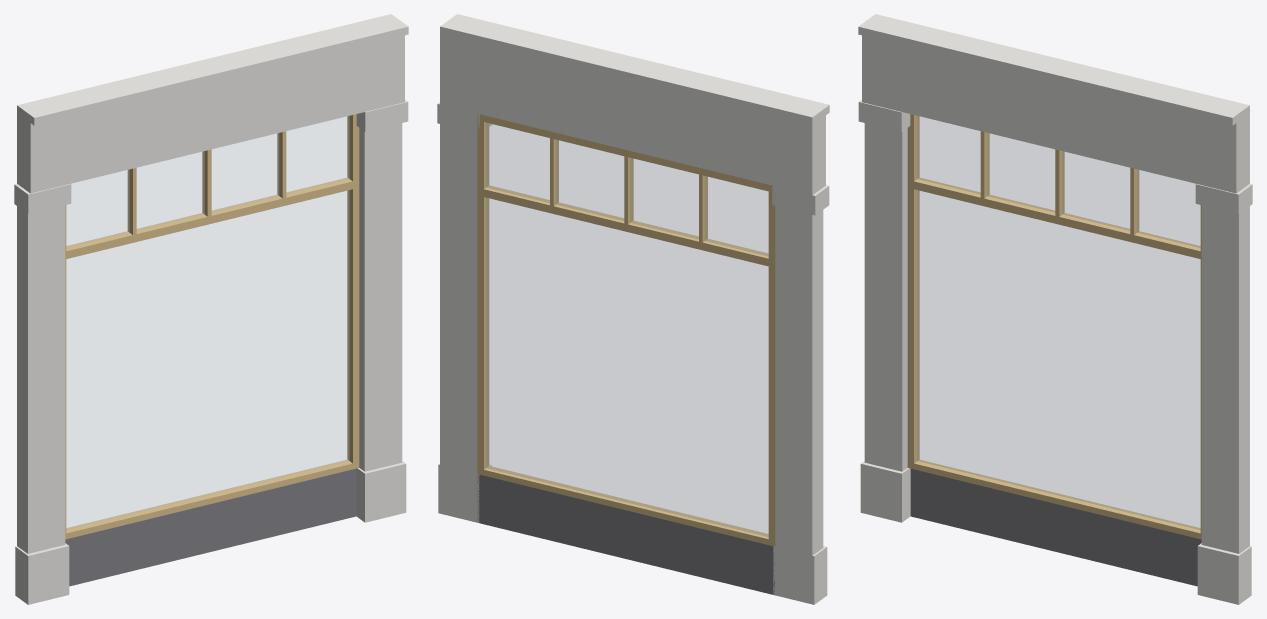
The model's file is storefront_luxury_4.0x5.0.glb.
3 views of the same model, side by side, from view 1: azimuth 30°, elevation 25°; view 2: azimuth 150°, elevation 25°; view 3: azimuth 330°, elevation 25° (orthographic).
Visible parts, largest first — view 1: storefront_luxury; view 2: storefront_luxury; view 3: storefront_luxury.
Part boxes in pixels (x1,y1,x2,y2): storefront_luxury: (14, 14, 408, 604); storefront_luxury: (437, 14, 829, 604); storefront_luxury: (858, 14, 1252, 604).
Bounding box in the file's own units: 4.06 × 5 × 0.32.
